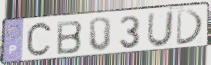0: (88, 16, 113, 53)
3: (119, 15, 141, 49)
B: (56, 19, 84, 56)
C: (25, 20, 54, 61)
D: (175, 9, 206, 47)
U: (146, 10, 175, 48)
